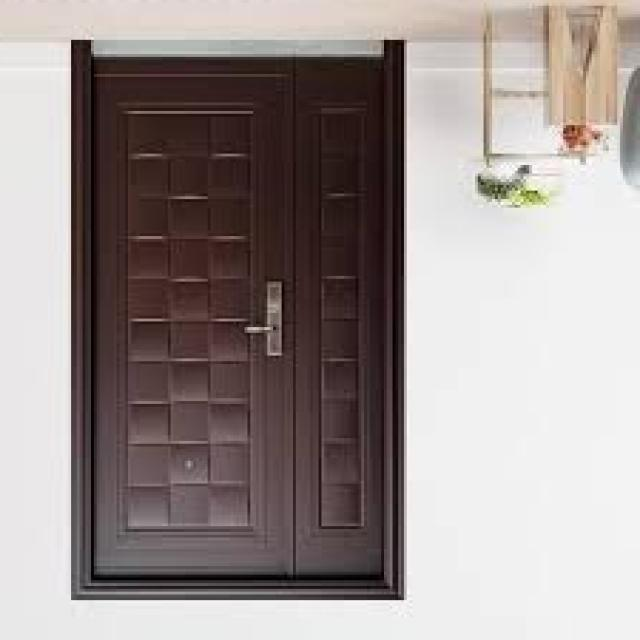door: (82, 47, 392, 596)
